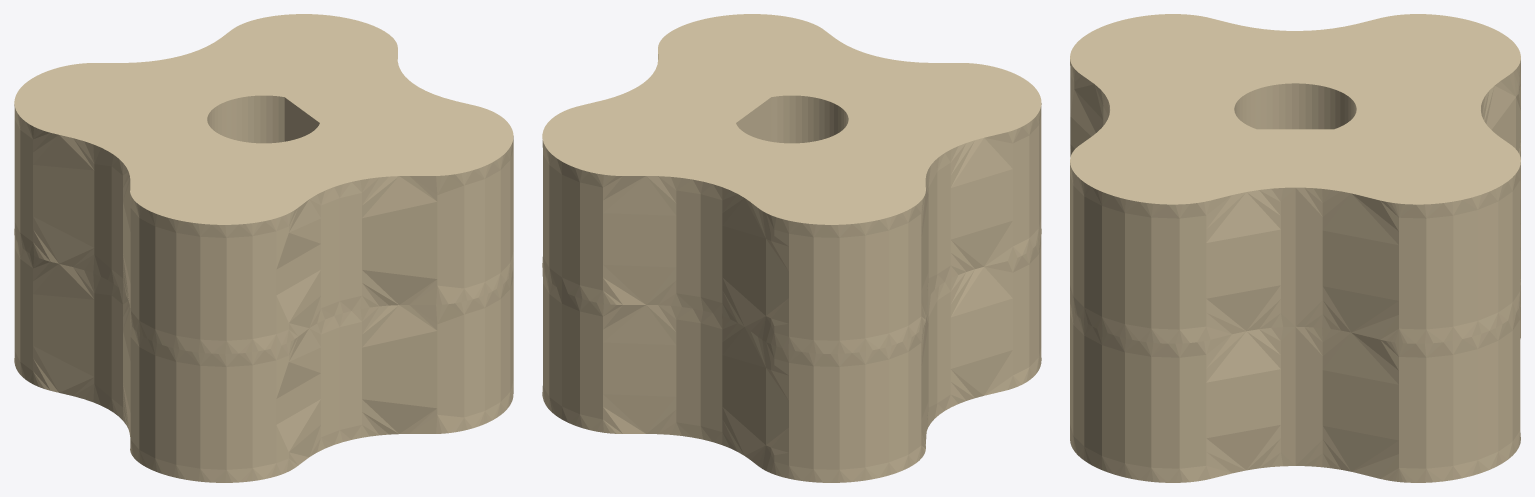
Rendered from oil-pump-inner-rotor.glb.
3 views of the same model, side by side, from view 1: azimuth 30°, elevation 25°; view 2: azimuth 150°, elevation 25°; view 3: azimuth 270°, elevation 25° (orthographic). The views are drawn at different scales.
Parts seen in each view (by area): view 1: world; view 2: world; view 3: world.
Boxes of the visible parts, <box> form: world: <box>14,14,513,482</box>; world: <box>542,14,1041,482</box>; world: <box>1070,14,1520,482</box>.
Size of the model in its own units: 0.0352 by 0.024 by 0.0352.
